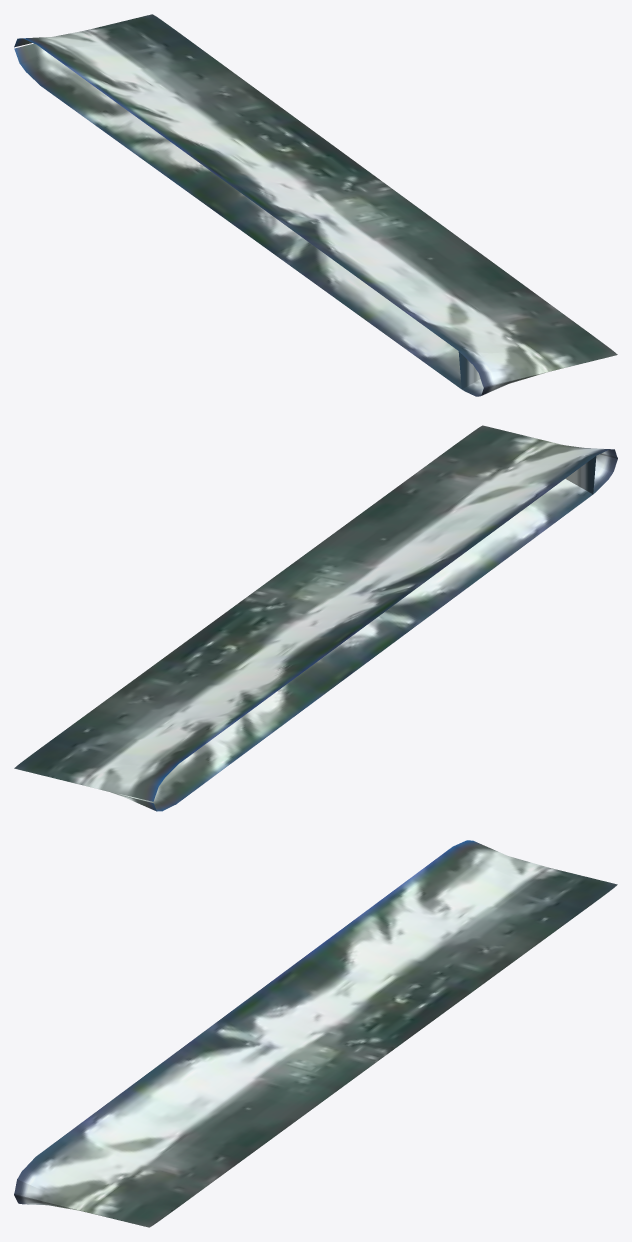
3 views of the same model, one above another, from view 1: azimuth 30°, elevation 25°; view 2: azimuth 150°, elevation 25°; view 3: azimuth 330°, elevation 25° (orthographic).
Visible parts, largest first — view 1: Cube.002_body_0.001; view 2: Cube.002_body_0.001; view 3: Cube.002_body_0.001.
Part boxes in pixels (x1,y1,x2,y2): Cube.002_body_0.001: [14, 14, 617, 396]; Cube.002_body_0.001: [14, 425, 617, 811]; Cube.002_body_0.001: [14, 840, 617, 1227].
Bounding box in the file's own units: 0.2287 × 0.0649 × 1.32.
1 material, 1 textured.
